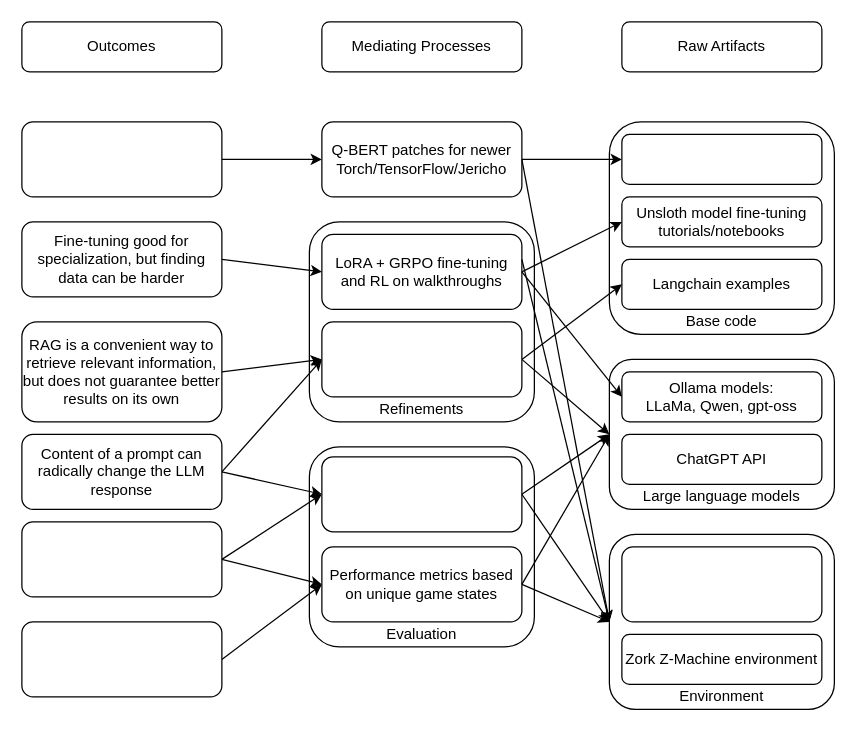
The diagram is 856 pixels wide and 731 high, and some of its shapes have lost their labels. The shapes that lost their labels are listed below. From the top down, each one's centre as x and y in pixels, then its label:
(121,159): Q-BERT usage hampered by older libraries, memory constraints
(721,158): Q-BERT source code
(421,359): Implementation of in-memory RAG
(421,494): Several saved runs of Zork by the LLM
(121,559): LLMs are not good at long-term reasoning on their own
(721,584): Microsoft's Jericho Interface for Learning Agents
(121,659): Text adventure games are an interesting example of a long, complex task
